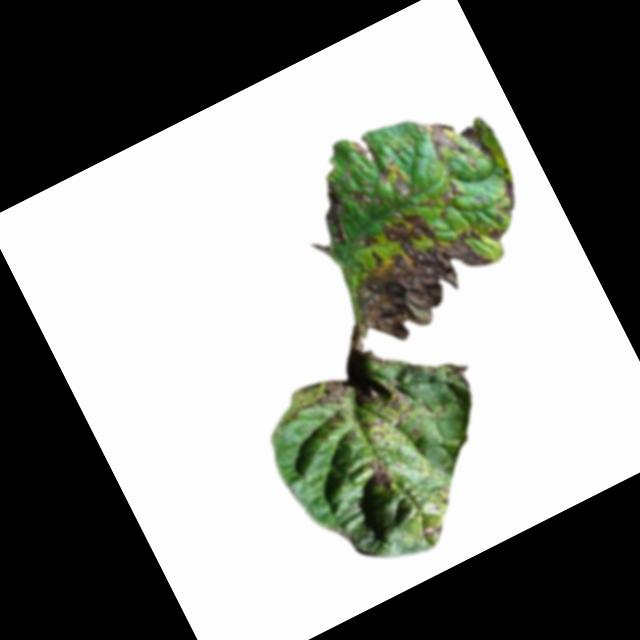Early_blight: (326, 181, 511, 354), (282, 347, 426, 472), (287, 178, 362, 257), (419, 112, 469, 170), (458, 119, 500, 169), (493, 165, 527, 212), (360, 455, 397, 496), (346, 177, 383, 216), (347, 131, 383, 170), (387, 167, 417, 202), (434, 177, 466, 206), (487, 224, 509, 244), (375, 166, 394, 185), (421, 524, 440, 543)
